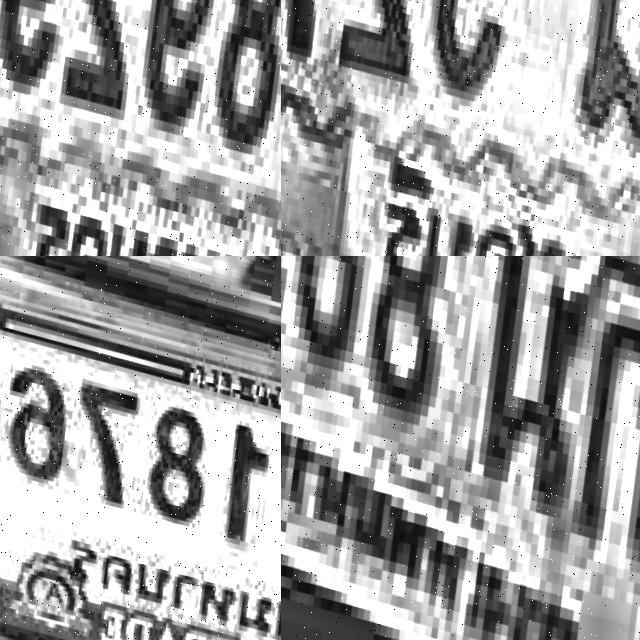license-plate: (281, 256, 640, 640), (0, 270, 281, 640), (281, 0, 640, 256), (0, 0, 281, 256)
